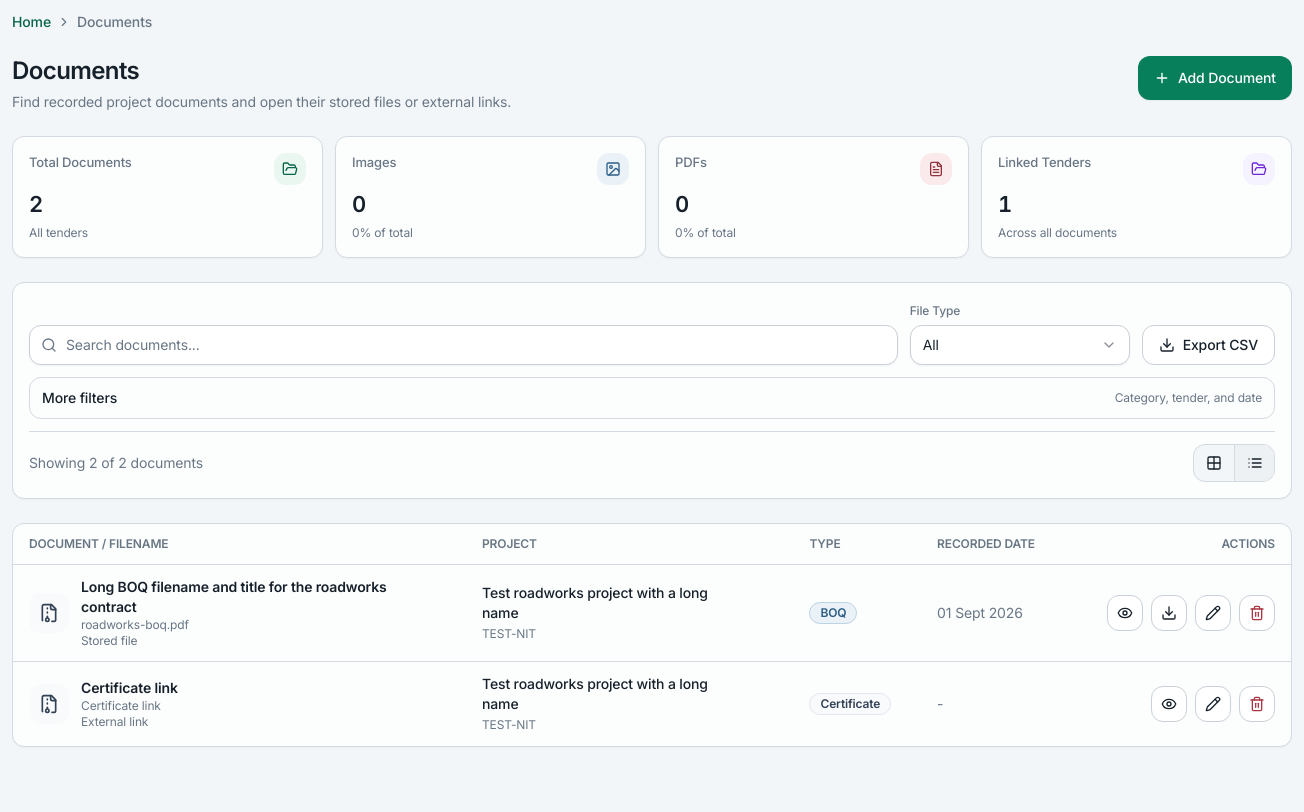
Test: Documents workflows on disposable records › filters records and distinguishes stored downloads from external links
Check: the number of links "Test roadworks project with a long name" is 2, box [482, 582, 742, 622]; [482, 674, 742, 714]
Check: the number of buttons named "Open document" is 2, box [1107, 594, 1143, 630]; [1151, 686, 1187, 722]
Type "Certificate" into the search field labelled "Search documents" at (463, 344), box [29, 324, 898, 364]
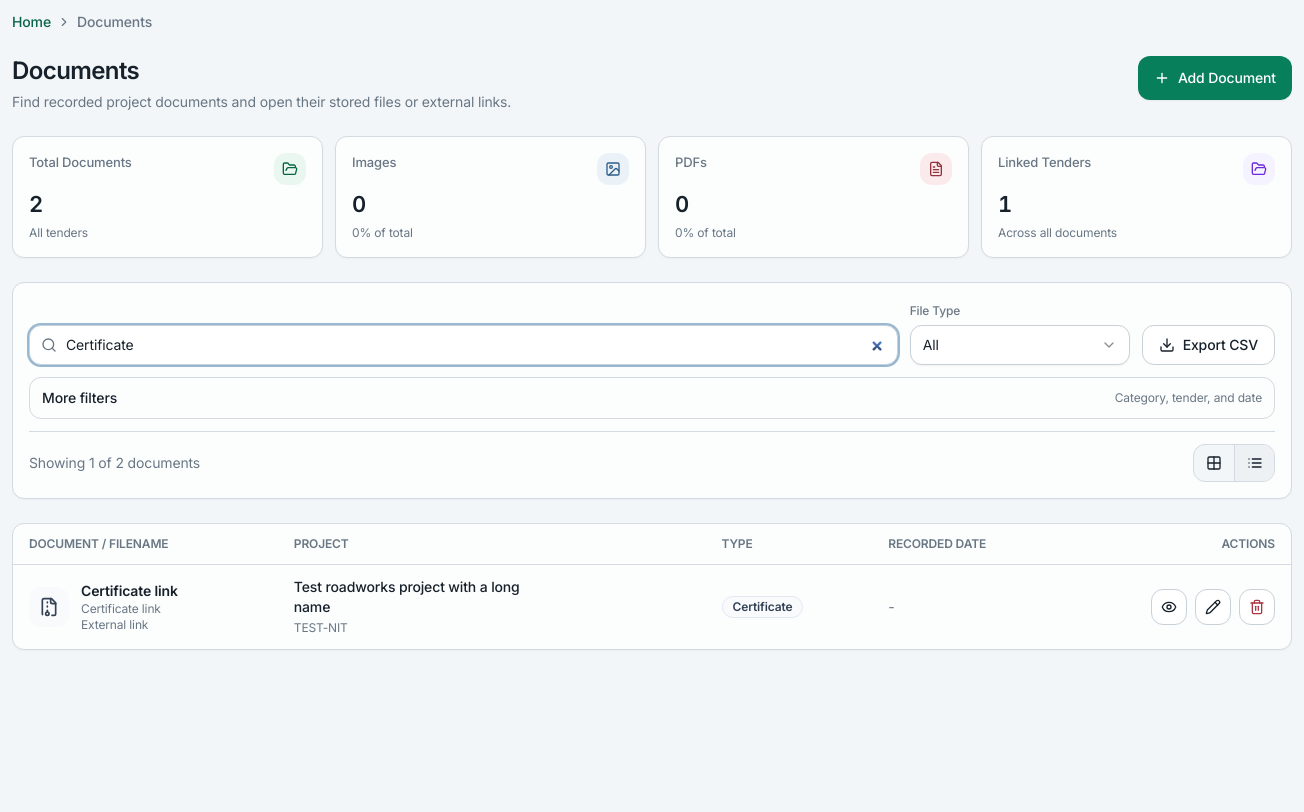
Check: the text "External link" is shown, box [81, 616, 148, 632]
Check: the text "Certificate link" is shown 2 times, box [81, 580, 178, 600]; [81, 600, 161, 616]
Check: the text "Long BOQ filename and title for the roadworks contract" is gone
